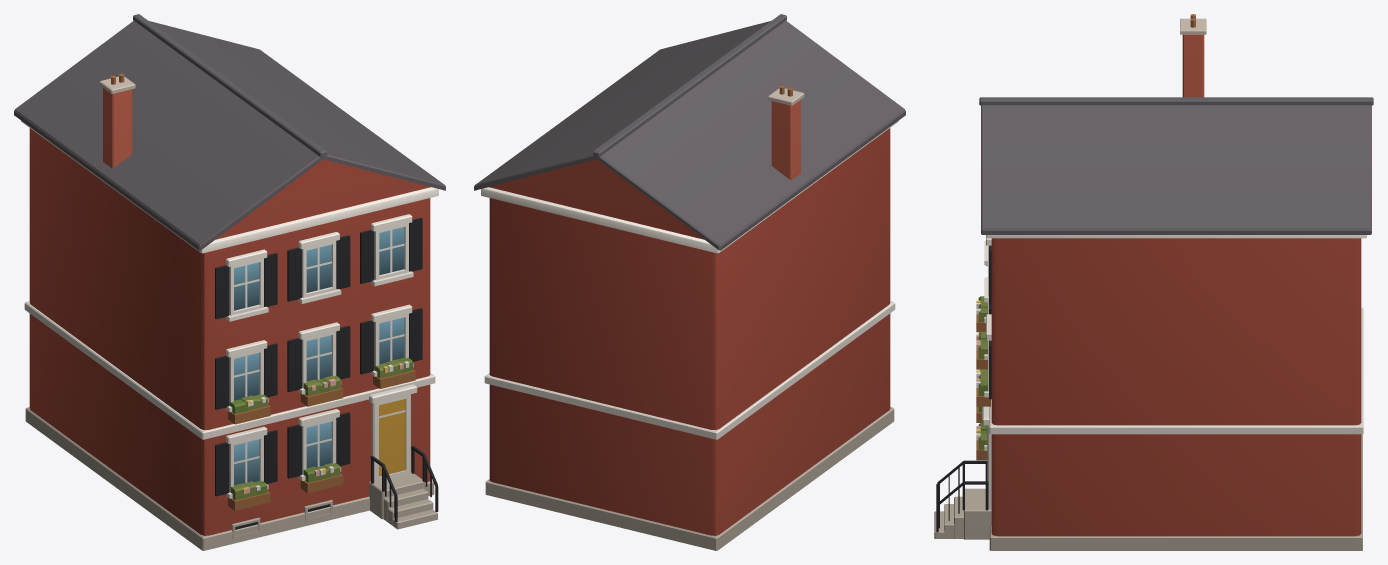
File: lane_e3.glb
The picture shows the model from 3 angles, left to right: view 1: azimuth 30°, elevation 25°; view 2: azimuth 150°, elevation 25°; view 3: azimuth 270°, elevation 25°; orthographic projection. The views are drawn at different scales.
Visible parts, largest first — view 1: lane_e3; view 2: lane_e3; view 3: lane_e3.
Boxes of the visible parts, x1,y1,x2,y2 form: lane_e3: [14, 14, 445, 550]; lane_e3: [474, 14, 905, 550]; lane_e3: [934, 14, 1373, 550].
Size of the model in its own units: 9.7 by 15.07 by 14.26.
1 material, 1 textured.
